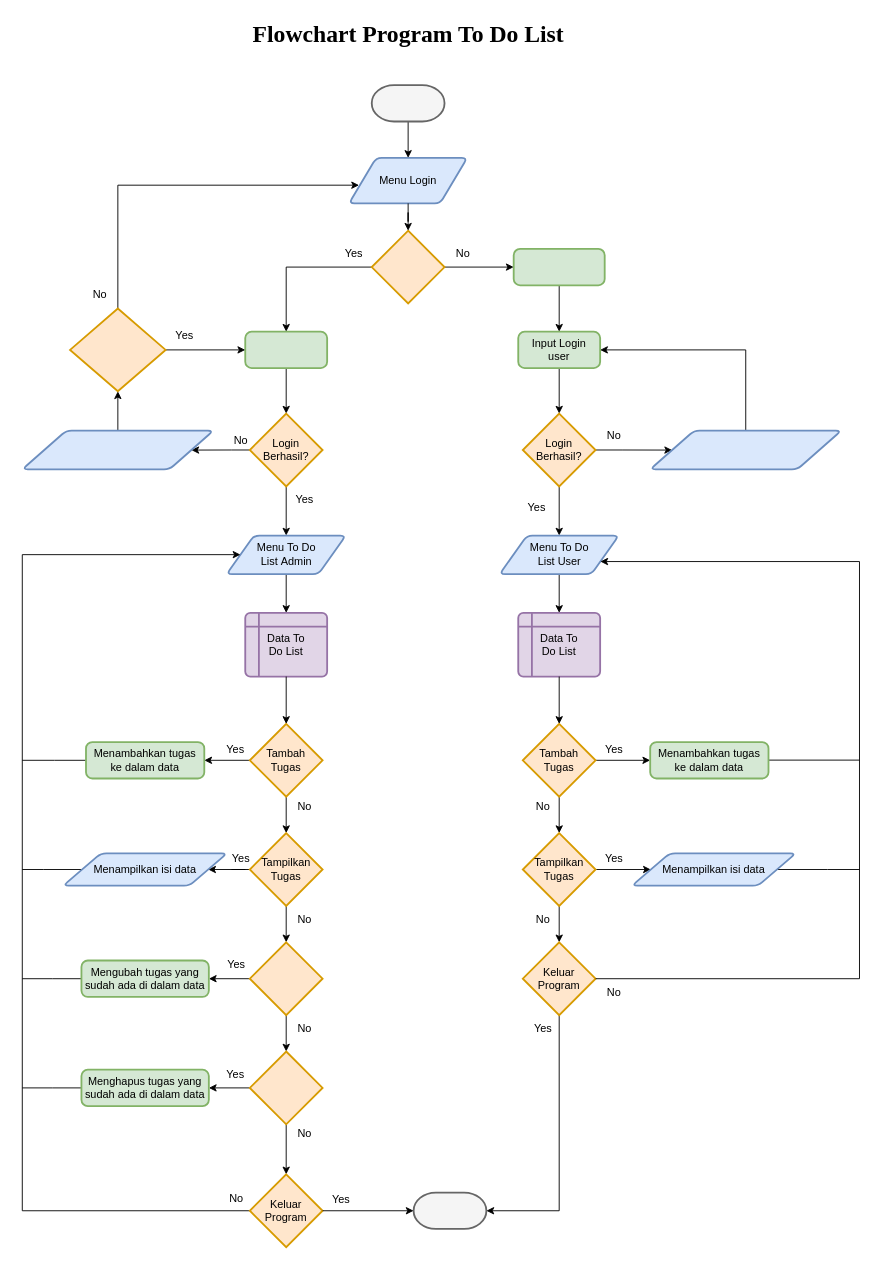
Image size: 883x1263. Some labels were removed from this diagram. The centre of each missing label's shape, as x and y in pixels:
"End" belongs at (449,1210).
"Gagal login sebagai admin" belongs at (117,449).
"Gagal login sebagai user" belongs at (745,449).
"Hapus Tugas" belongs at (285,1087).
"Input Login Admin" belongs at (286,349).
"Lanjut login sebagai admin?" belongs at (117,349).
"Registrasi user" belongs at (558,267).
"Sebagai Admin?" belongs at (407,266).
"Start" belongs at (407,103).
"Ubah Tugas" belongs at (285,978).
